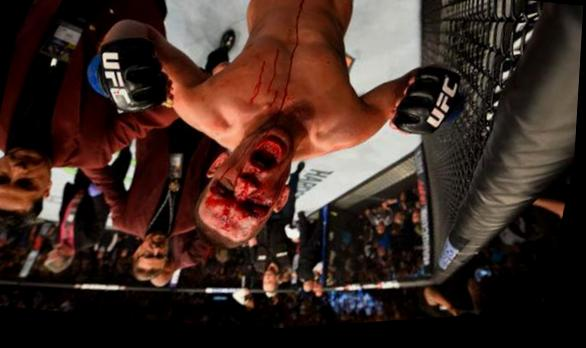Fire: (202, 0, 307, 244)
